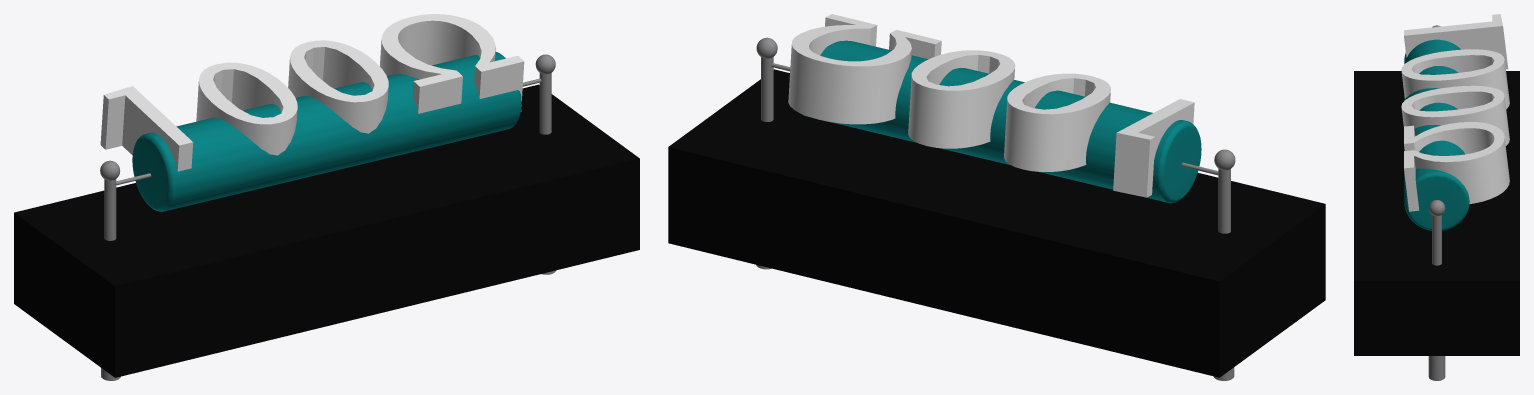
3 views of the same model, side by side, from view 1: azimuth 30°, elevation 25°; view 2: azimuth 150°, elevation 25°; view 3: azimuth 270°, elevation 25° (orthographic). The views are drawn at different scales.
Visible parts, largest first — view 1: pCube1, typeMesh1, pCylinder1, pCylinder3, pasted__pCylinder3; view 2: pCube1, typeMesh1, pCylinder1, pCylinder3, pasted__pCylinder3; view 3: pCube1, typeMesh1, pCylinder1, pasted__pCylinder3, pasted__pCylinder4, pasted__pSphere1.
Part boxes in pixels (x1,y1,x2,y2): pCube1: [14, 84, 639, 377]; typeMesh1: [100, 14, 524, 171]; pCylinder1: [132, 52, 521, 211]; pCylinder3: [104, 179, 116, 240]; pasted__pCylinder3: [539, 73, 551, 134]; pCube1: [668, 69, 1325, 377]; typeMesh1: [788, 14, 1194, 197]; pCylinder1: [802, 40, 1201, 203]; pCylinder3: [1218, 168, 1230, 233]; pasted__pCylinder3: [761, 57, 773, 121]; pCube1: [1354, 71, 1519, 355]; typeMesh1: [1401, 14, 1509, 211]; pCylinder1: [1404, 39, 1469, 230]; pasted__pCylinder3: [1432, 215, 1441, 265]; pasted__pCylinder4: [1428, 356, 1445, 380]; pasted__pSphere1: [1428, 200, 1445, 216].
Bounding box in the file's own units: 0.03 × 0.0135 × 0.01.
